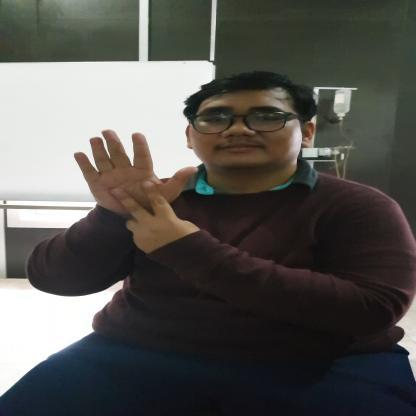N: (68, 127, 199, 242)
